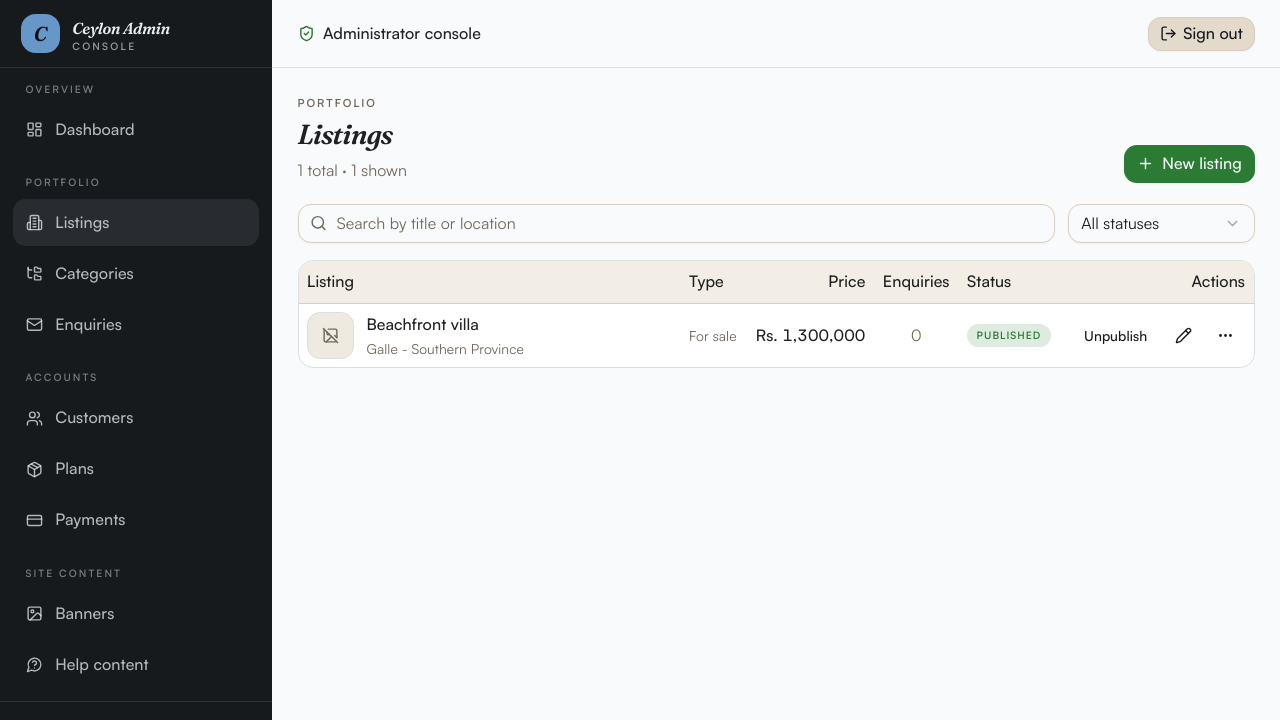
Test case: admin listings management › shows a no-results state when the search matches nothing
This screenshot has width=1280, height=720.
Expected: the row with test id "admin_listings.row.1" is shown, [298,303,1254,367]
In the search field with test id "admin_listings.search_input": (676, 223) [298,204,1055,243], type "nothingmatches"
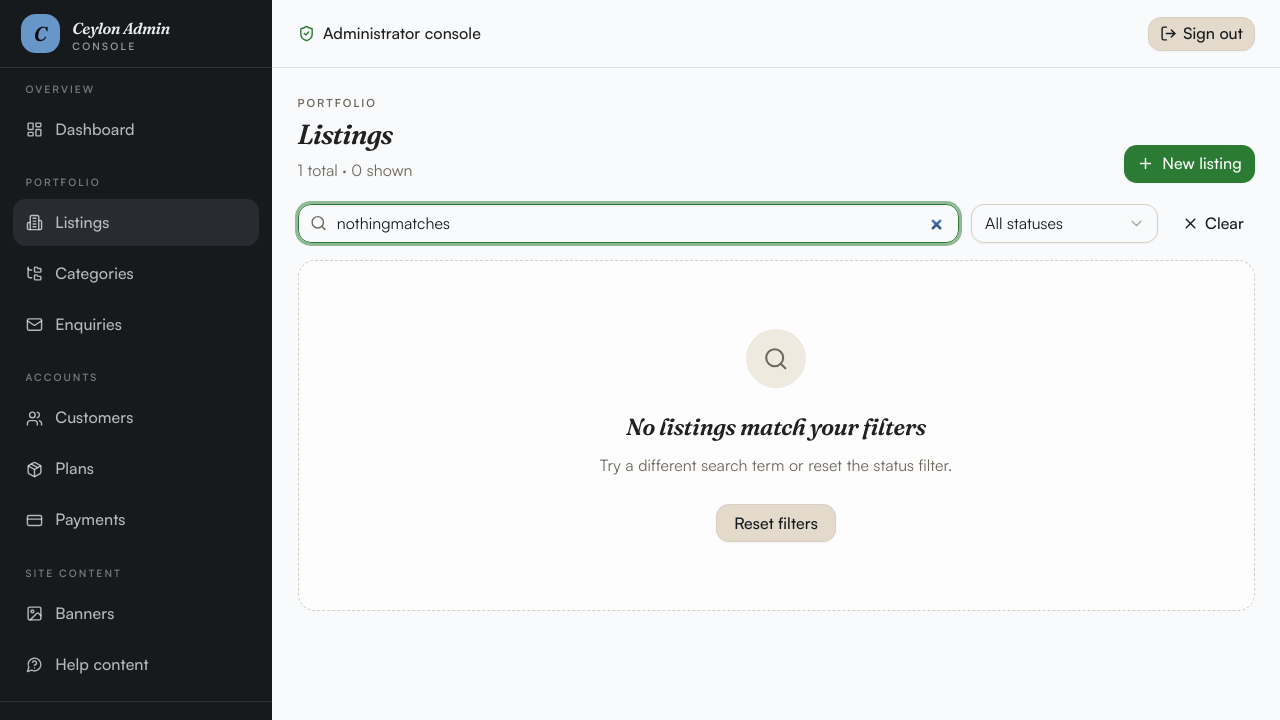
Expected: the element with test id "admin_listings.no_results_state" is shown, [298,260,1254,612]
